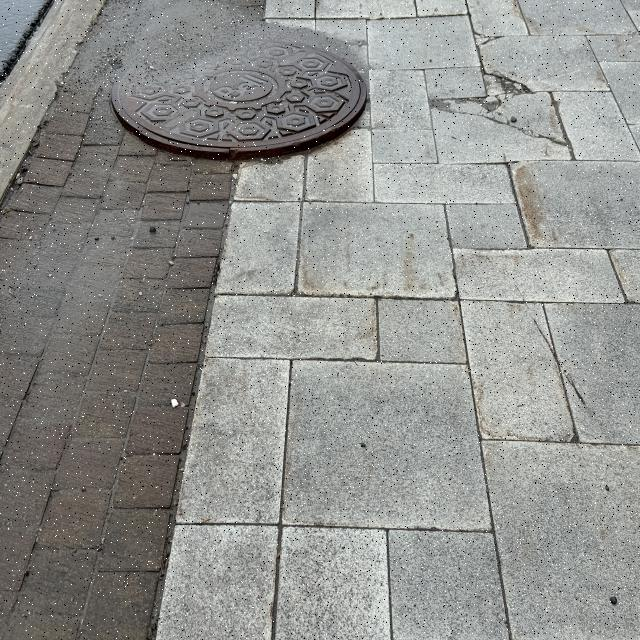Manhole: (115, 22, 369, 162)
